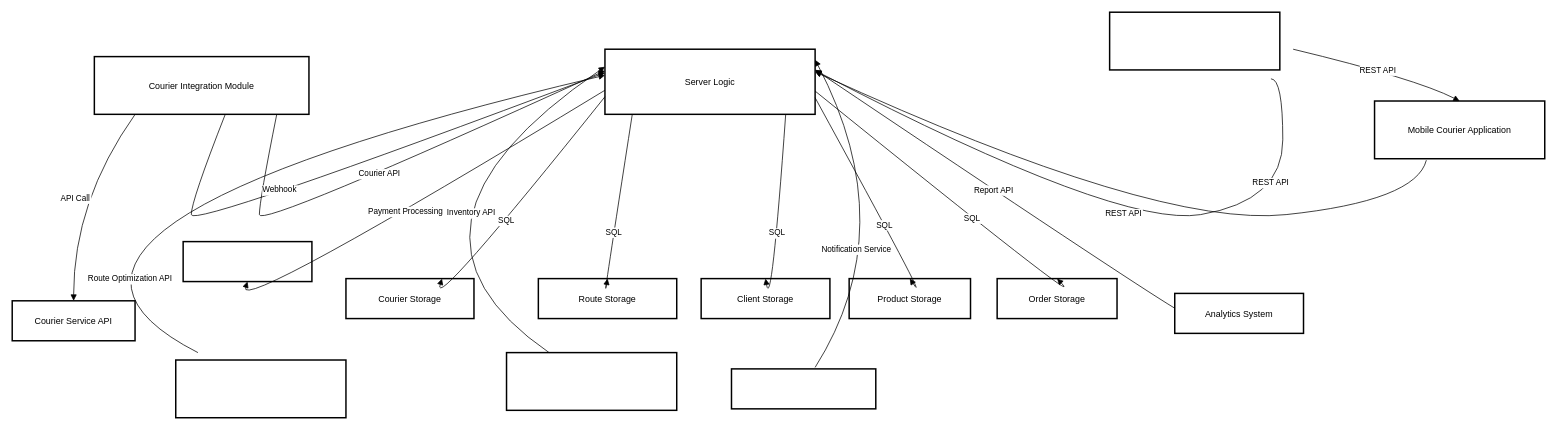
This 1557x430 diagram has some shape labels left out. Here are the shapes that lost their labels. From the top down, the box of each, then its label:
(1109, 11, 1280, 70): Web Client Application
(182, 240, 312, 282): Payment System API
(175, 359, 346, 418): Route Optimization Module
(505, 352, 677, 411): Warehouse Management Module
(730, 368, 876, 409): Notification System
